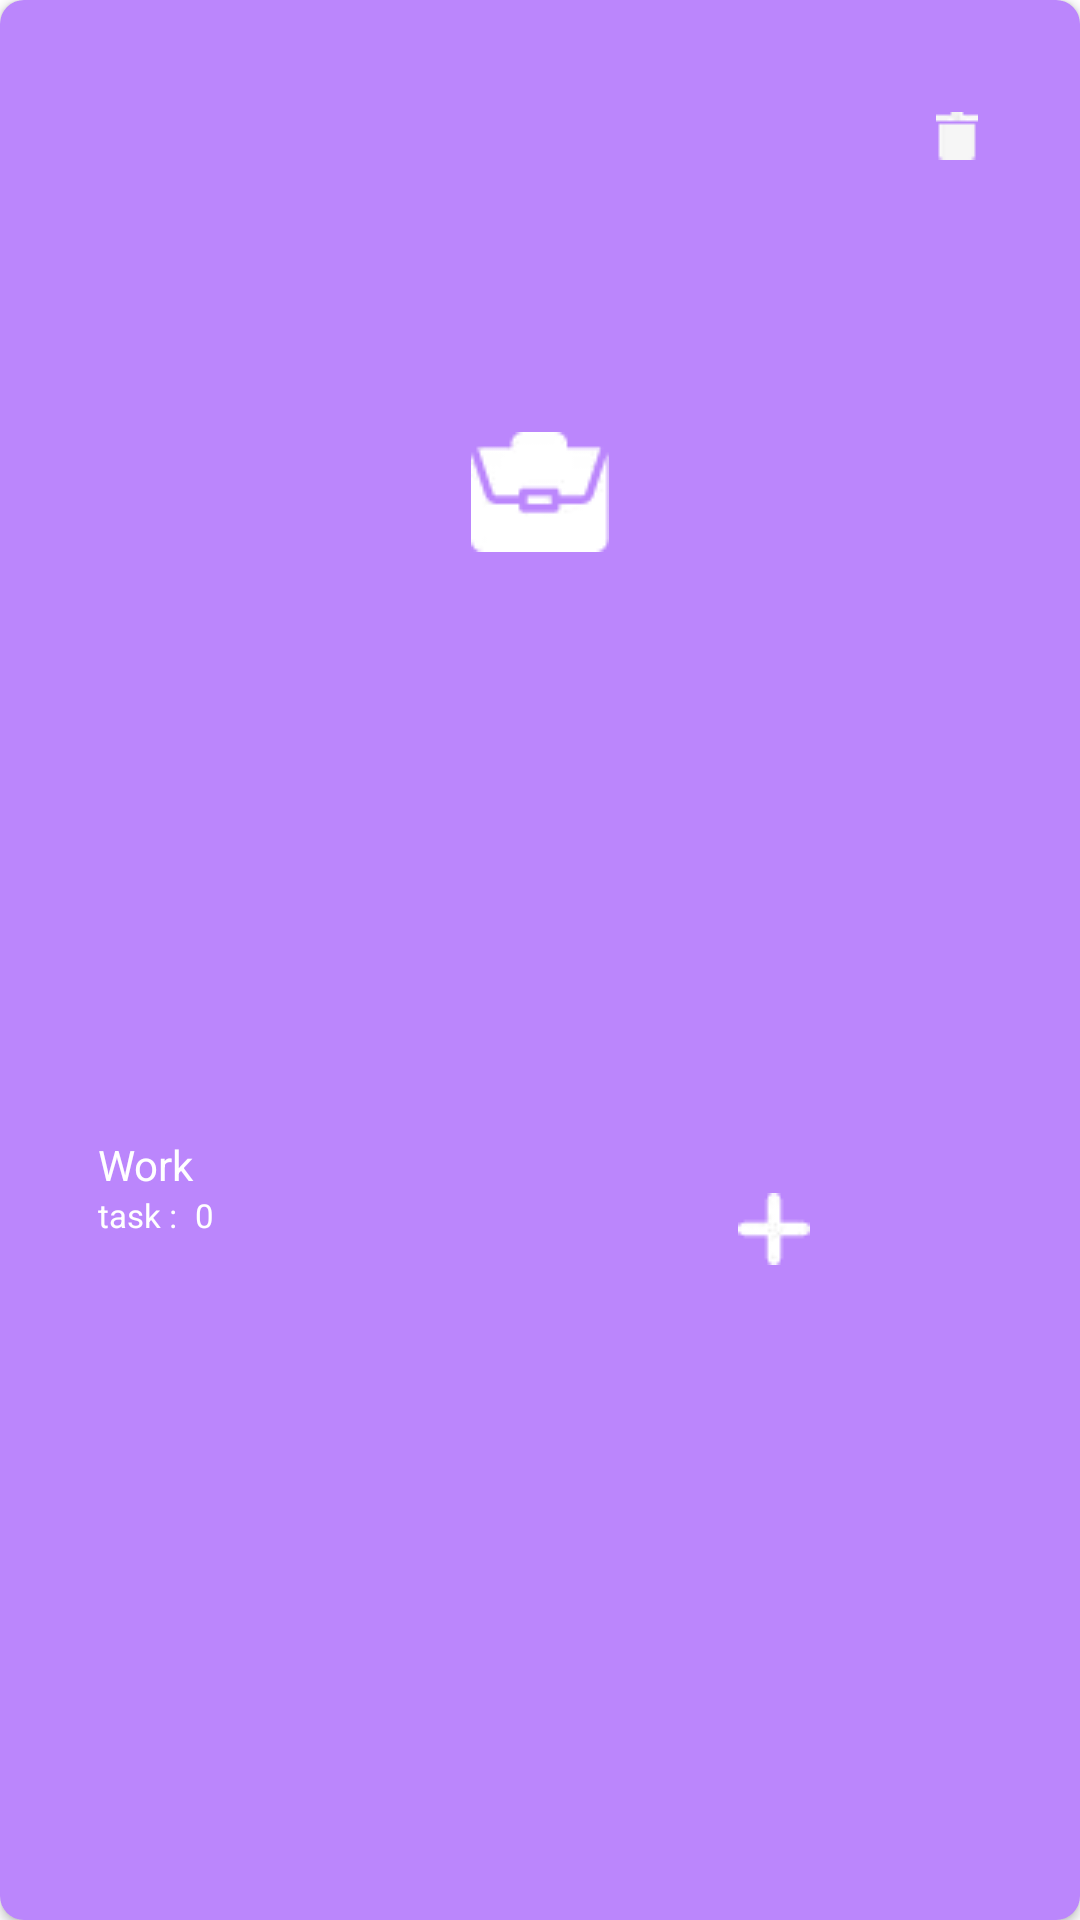

Where icons sit on this 1080×1920 app screen, as {"x1": x1, "y1": y1, "x2": x2, "y2": y2}:
add: {"x1": 738, "y1": 1193, "x2": 810, "y2": 1265}
delete: {"x1": 936, "y1": 112, "x2": 978, "y2": 160}
work: {"x1": 471, "y1": 432, "x2": 609, "y2": 552}
